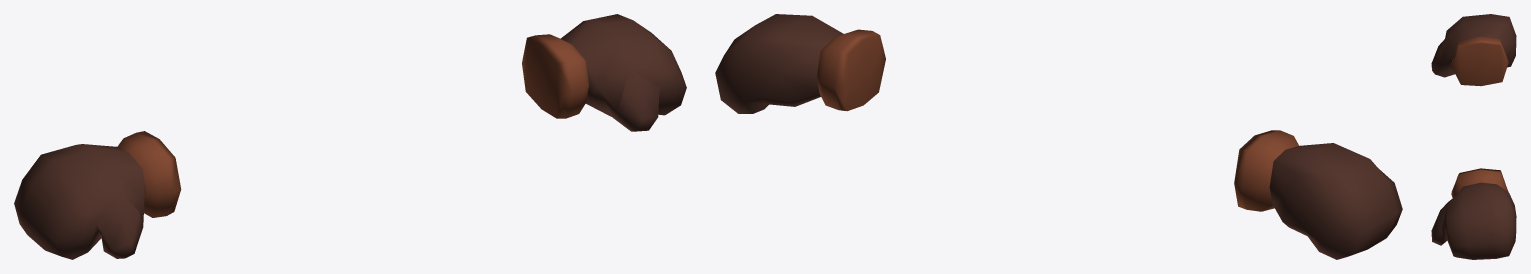
File: Glove_20.fbx
The picture shows the model from 3 angles, left to right: view 1: azimuth 30°, elevation 25°; view 2: azimuth 150°, elevation 25°; view 3: azimuth 270°, elevation 25°; orthographic projection. The views are drawn at different scales.
Visible parts, largest first — view 1: Glove_20; view 2: Glove_20; view 3: Glove_20.
Boxes of the visible parts, x1,y1,x2,y2 form: Glove_20: [14, 14, 686, 259]; Glove_20: [715, 14, 1402, 259]; Glove_20: [1431, 14, 1516, 259].
Bounding box in the file's own units: 140 × 18.4 × 23.93.
